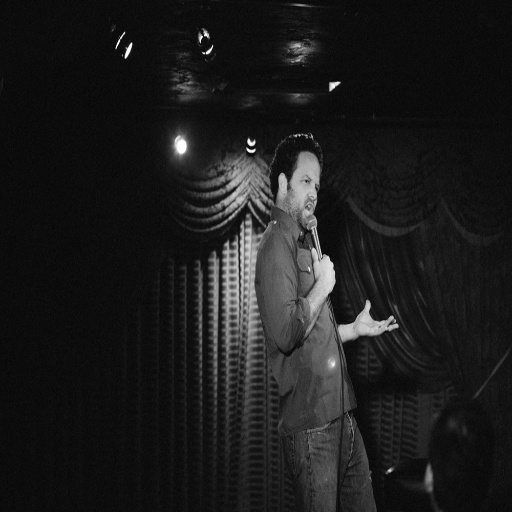hand: (342, 303, 389, 359), (310, 244, 337, 297)
